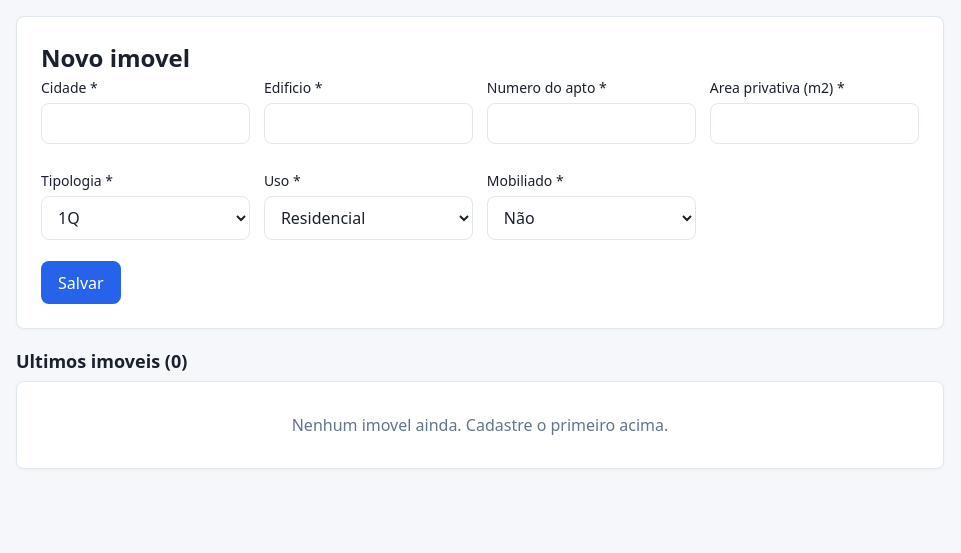
Test: CadastroImoveisContent › normalizes input, creates imovel and refreshes table
The width and height of the screenshot is (961, 553).
Expected: the text "Nenhum imovel ainda. Cadastre o primeiro acima." is shown, [292,414,668,436]
Type " florianópolis " into the field labelled "Cidade *" at (146, 123), box [41,103,250,144]
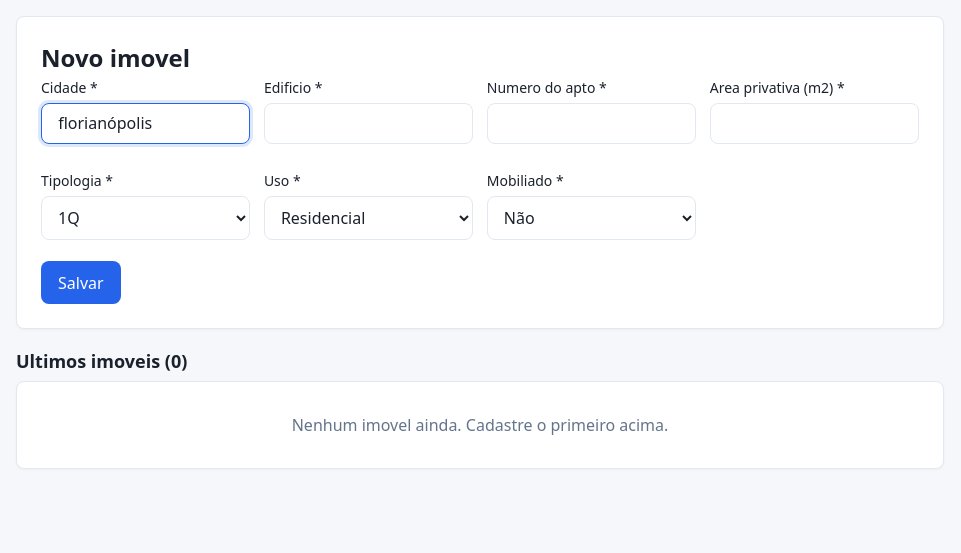
Type " plaza   mediterrâneo " into the field labelled "Edificio *" at (369, 123), box [264,103,473,144]
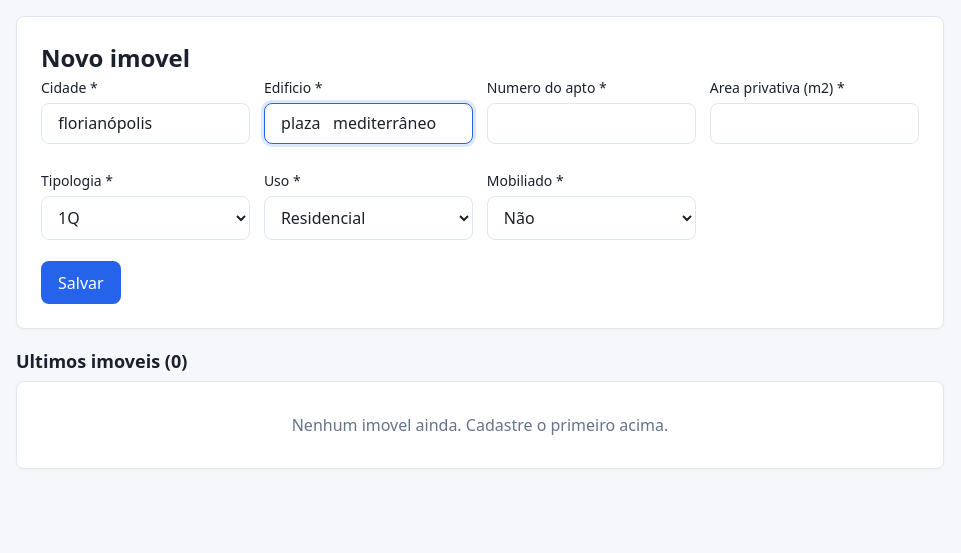
Type "326" into the field labelled "Numero do apto *" at (591, 123), box [487,103,696,144]
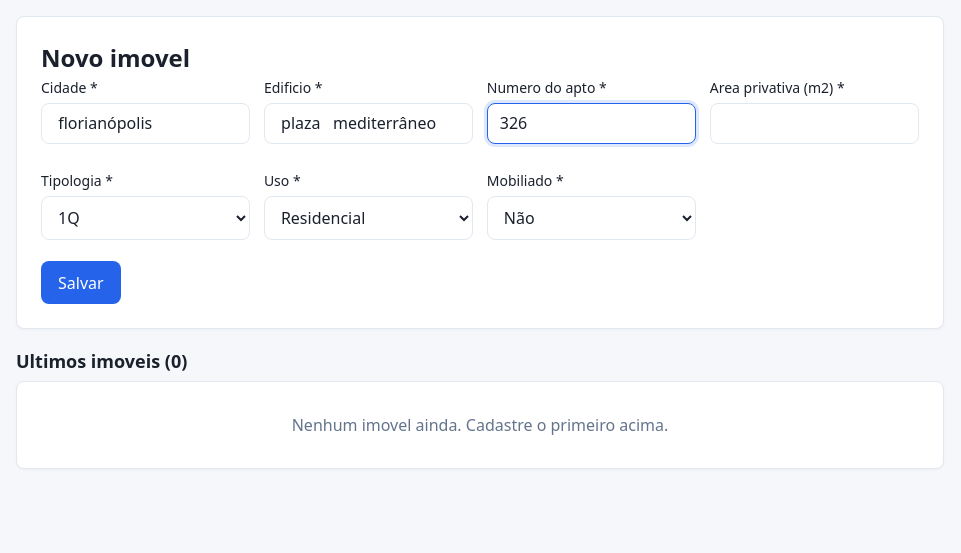
Type "72.5" into the number field labelled "Area privativa (m2) *" at (814, 123), box [710,103,919,144]
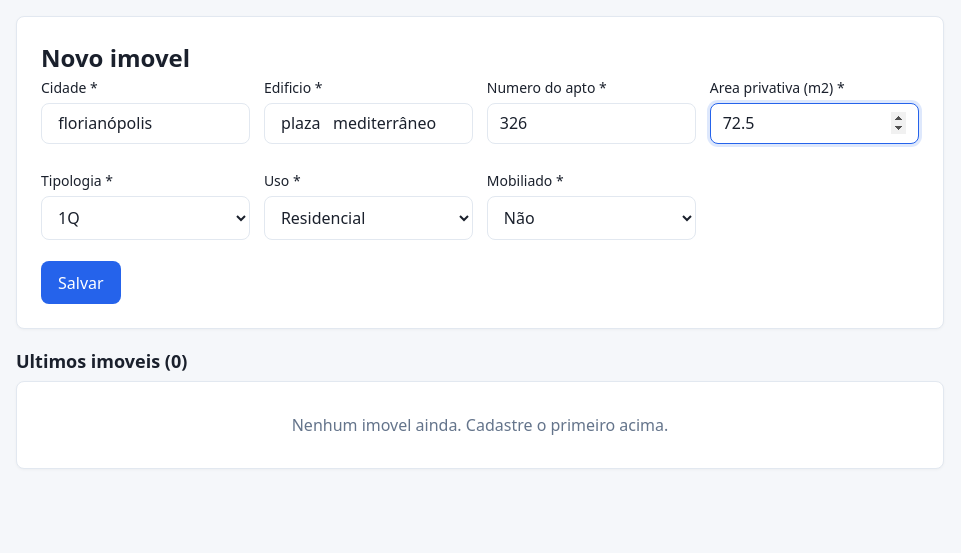
Select "2Q" in the dropdown labelled "Tipologia *" at (146, 218), box [41,196,250,240]
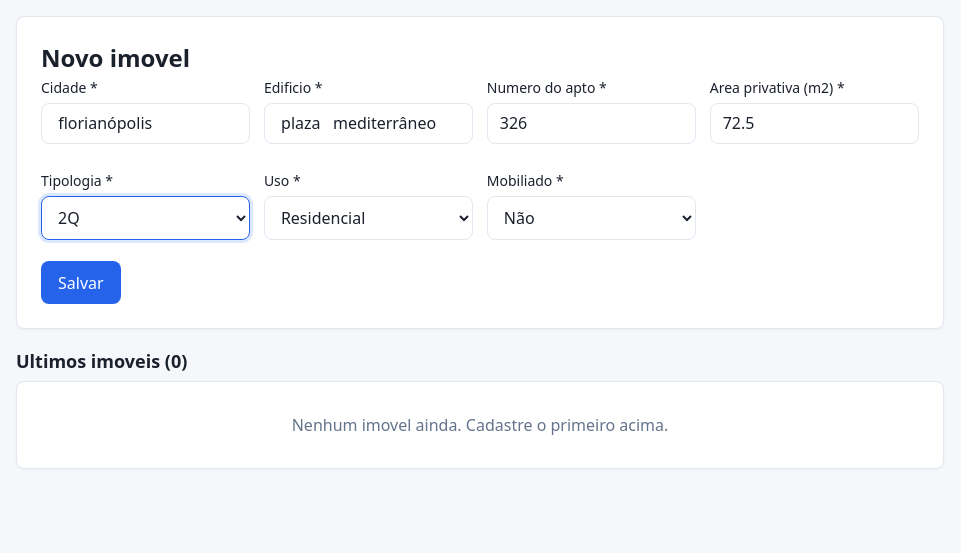
Click the button "Salvar" at (81, 283), box [41,261,121,304]
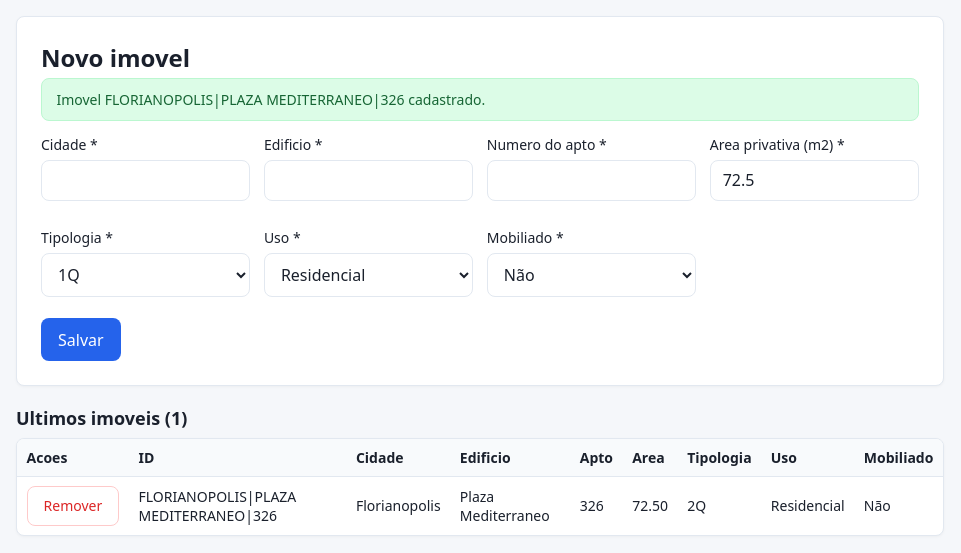
Expected: the text "Plaza Mediterraneo" is shown, [450,476,570,535]
